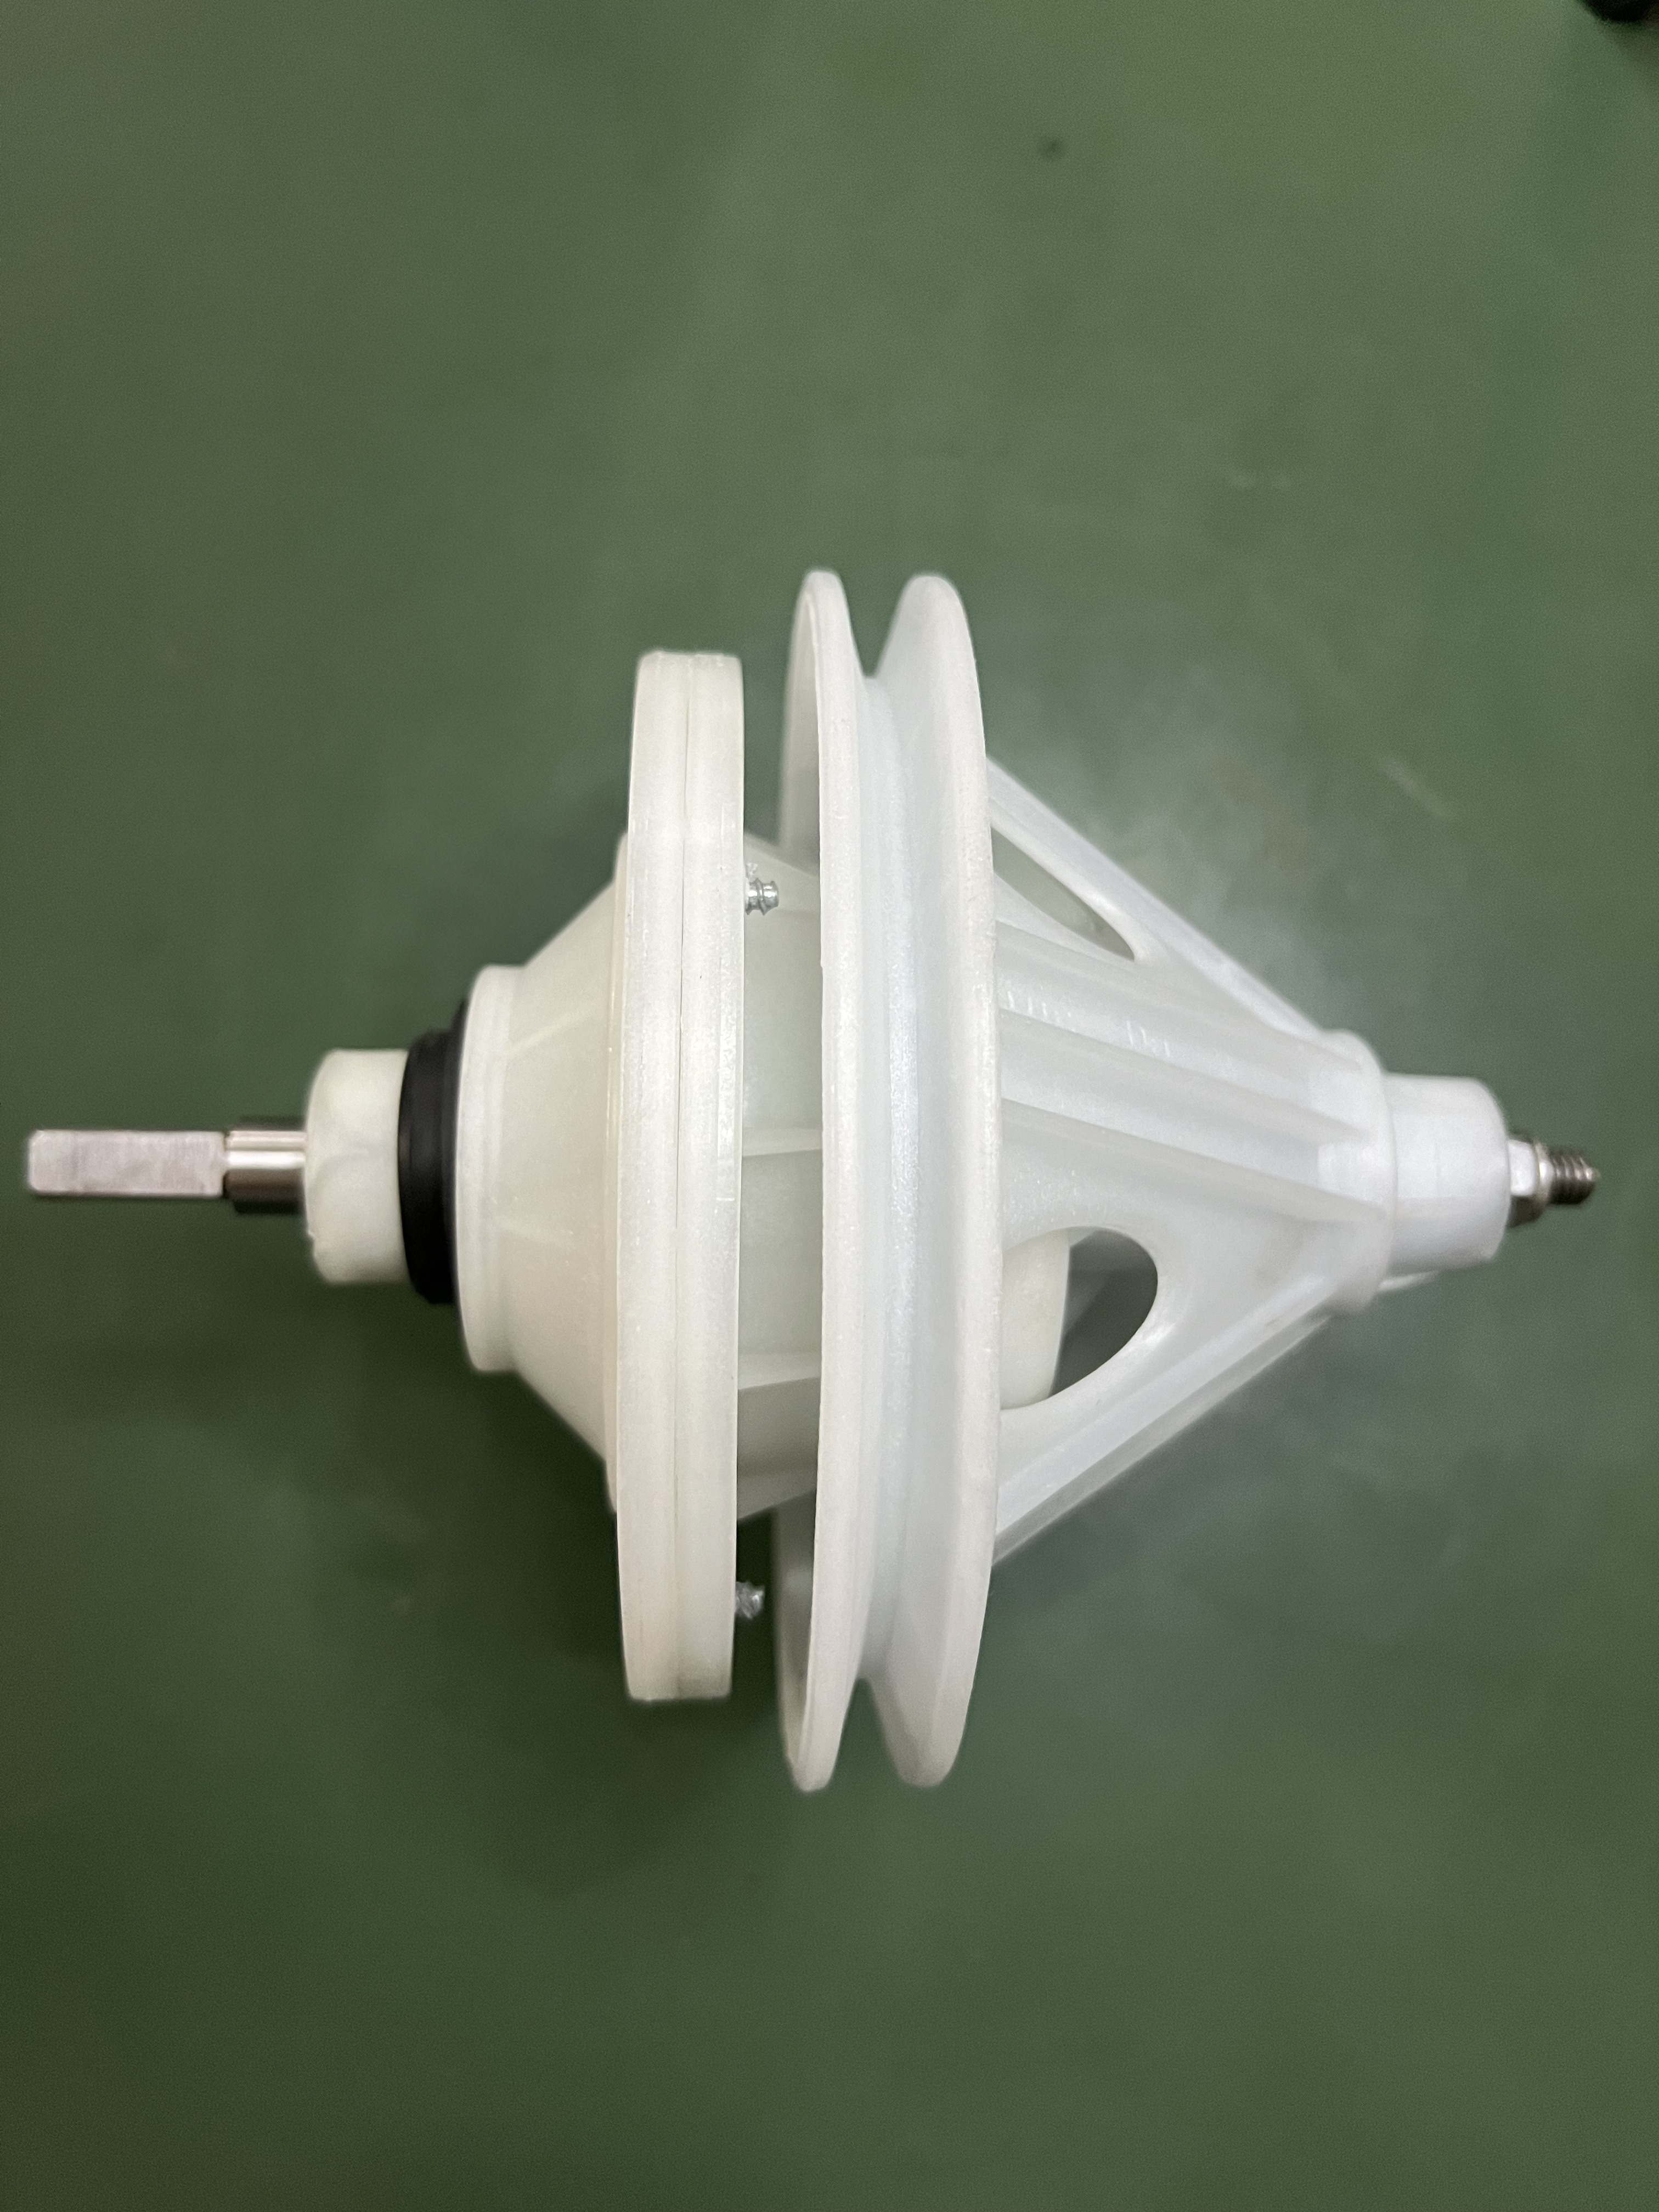gear_box_ovul: (19, 550, 1598, 1808)
